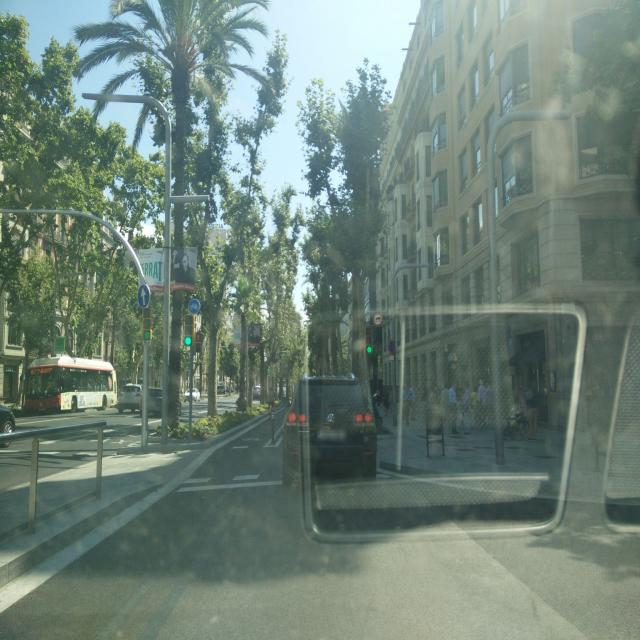forb_stopping: (388, 340, 395, 356)
